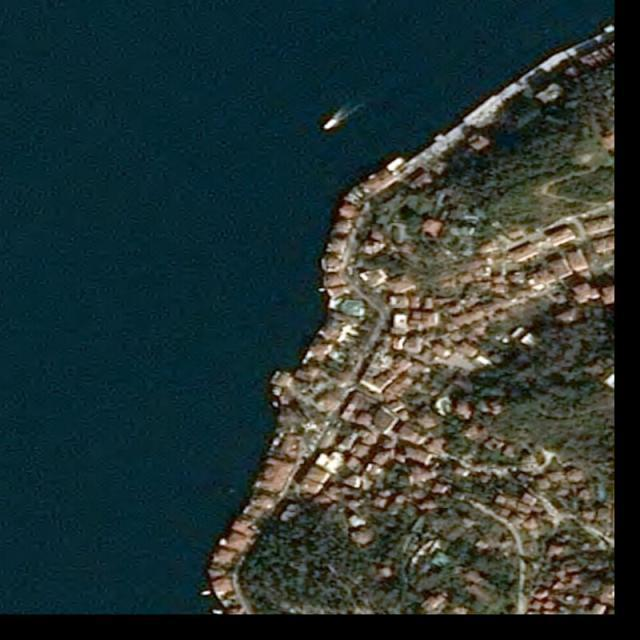ship: (322, 116, 340, 132), (199, 590, 213, 598), (211, 606, 225, 614)
